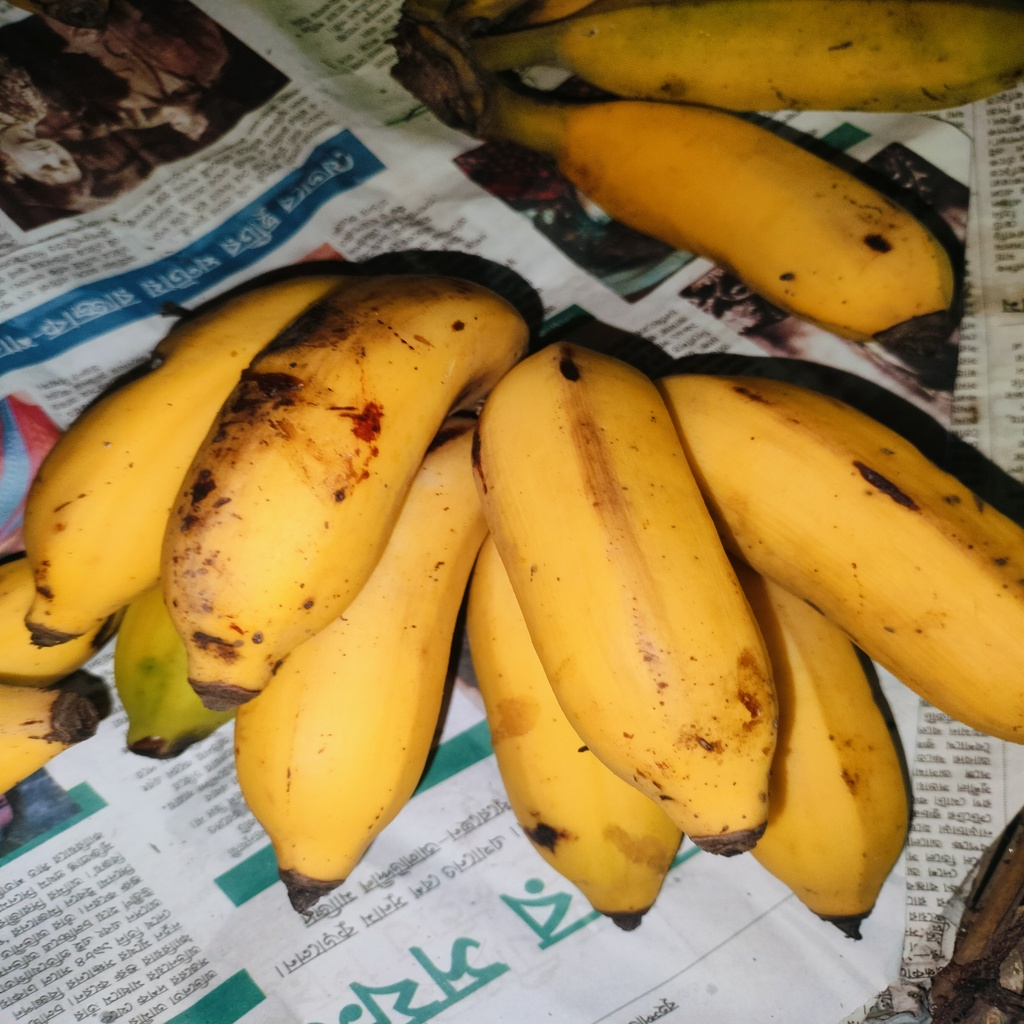healthy: (162, 275, 528, 704), (483, 344, 783, 853), (558, 96, 957, 347)
